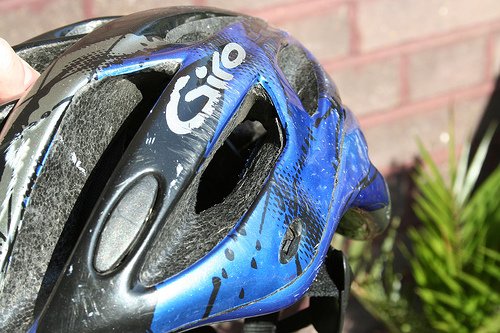helmet: (1, 21, 396, 302)
